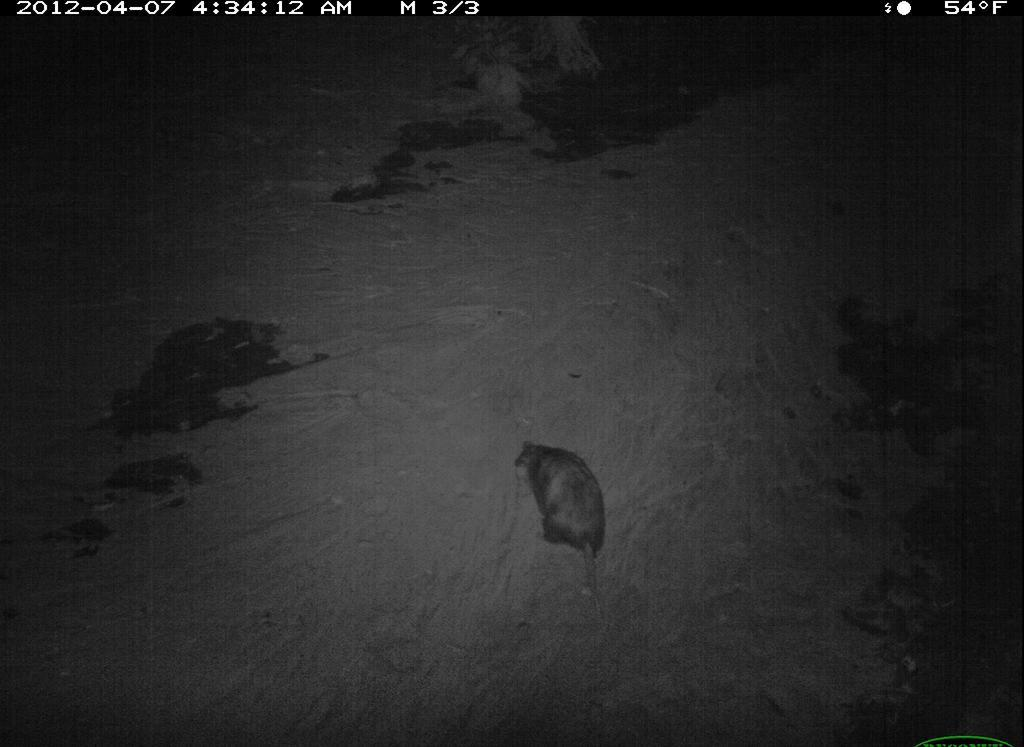opossum: (502, 427, 641, 610)
